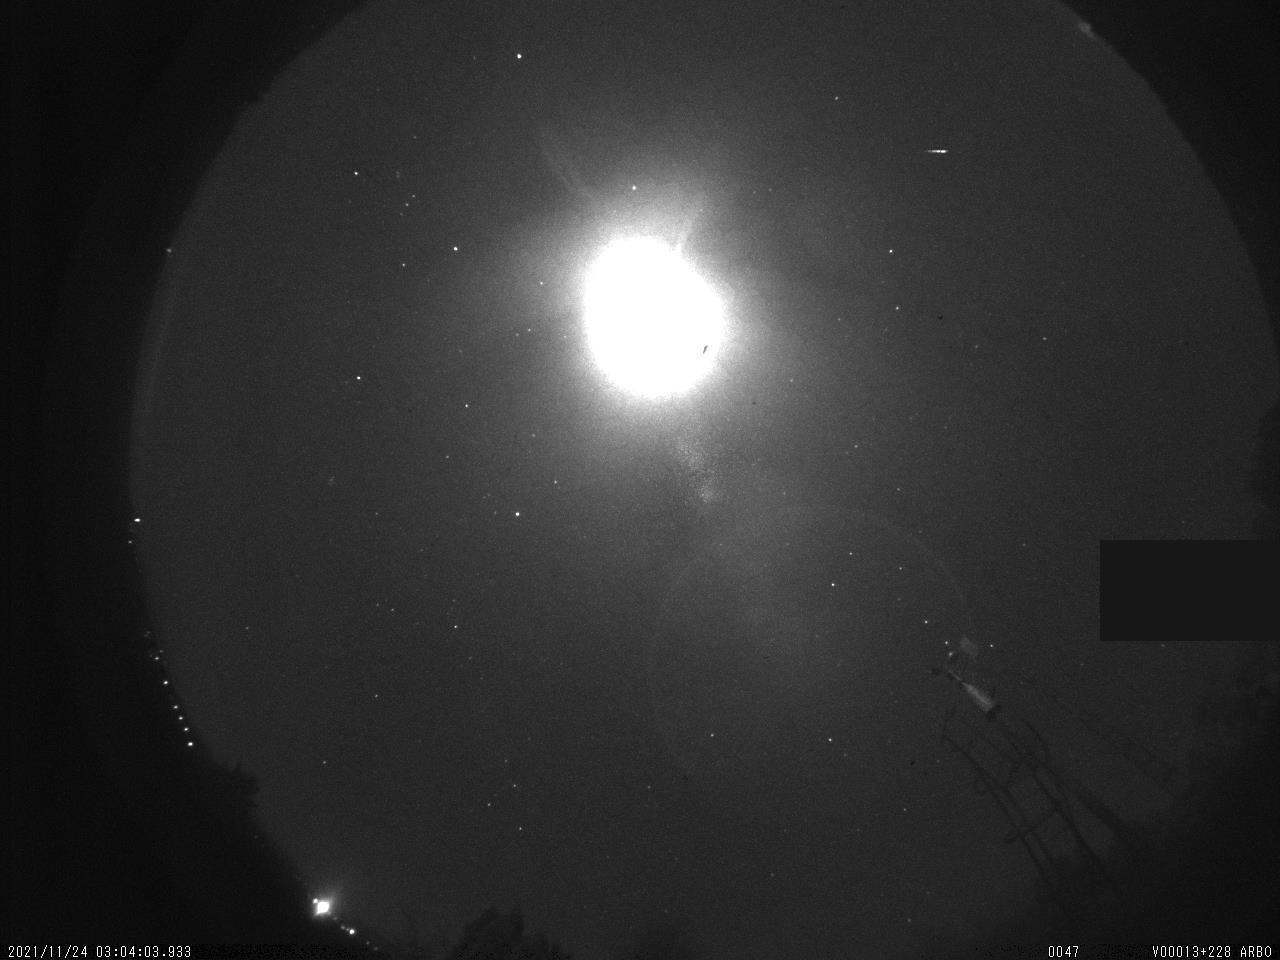meteor: (919, 138, 951, 166)
